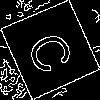C: (25, 24, 84, 77)
